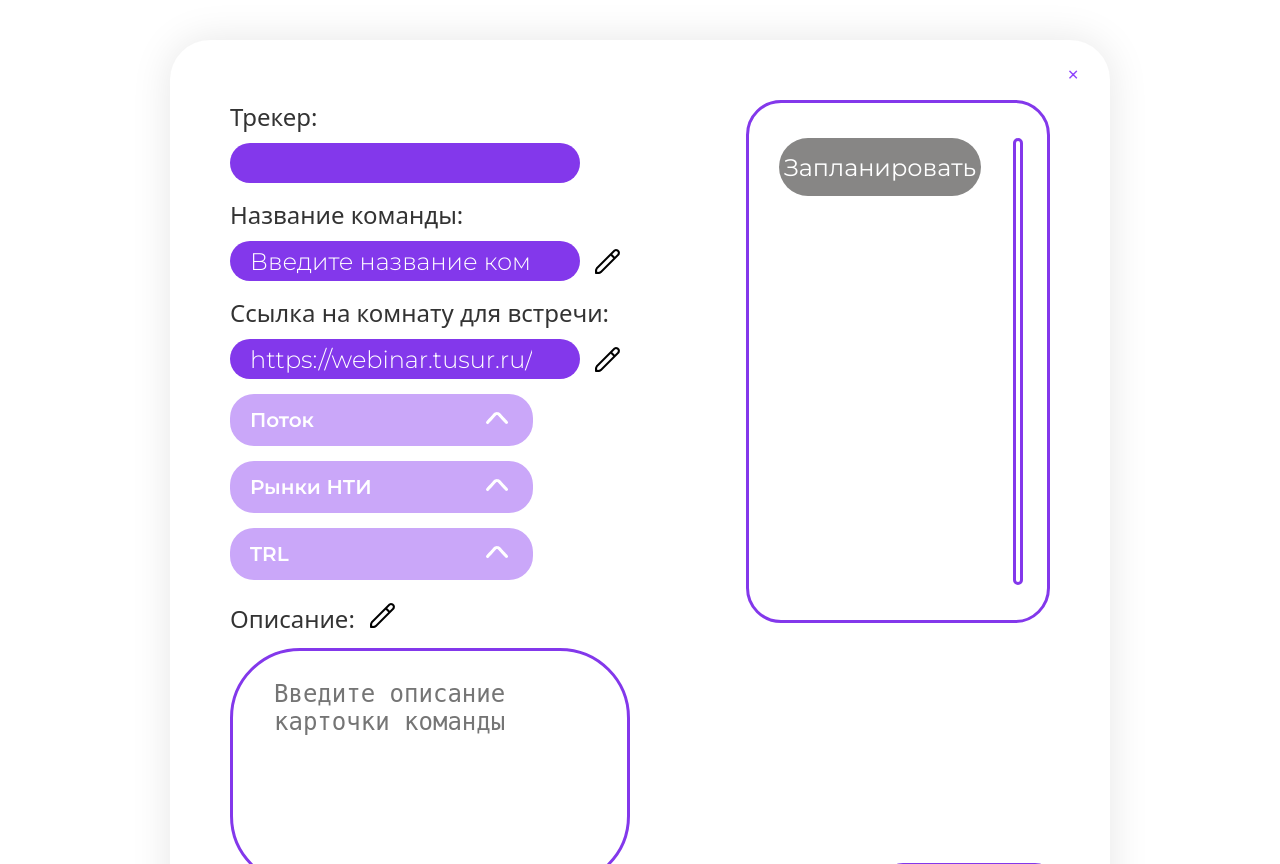
it: TeamCard — создание карточки команды › открывает выпадающий список потоков
Click the text "Поток" at (382, 420), box [230,394,533,446]
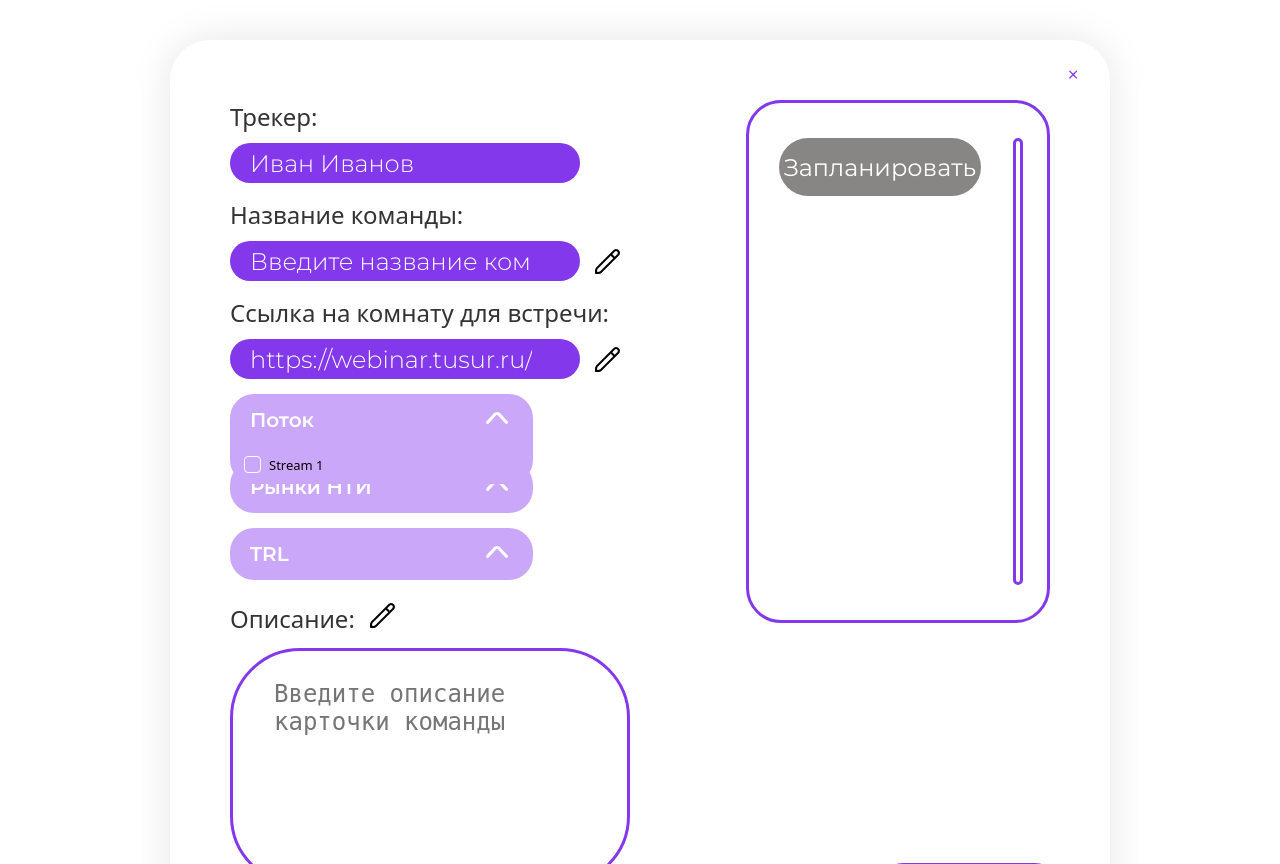
expect the text "Stream 1" is shown: met, box [269,456,324,474]
